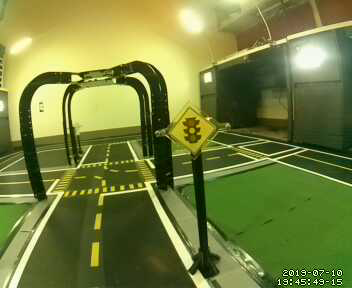Traffic light sign: (171, 106, 218, 152)
